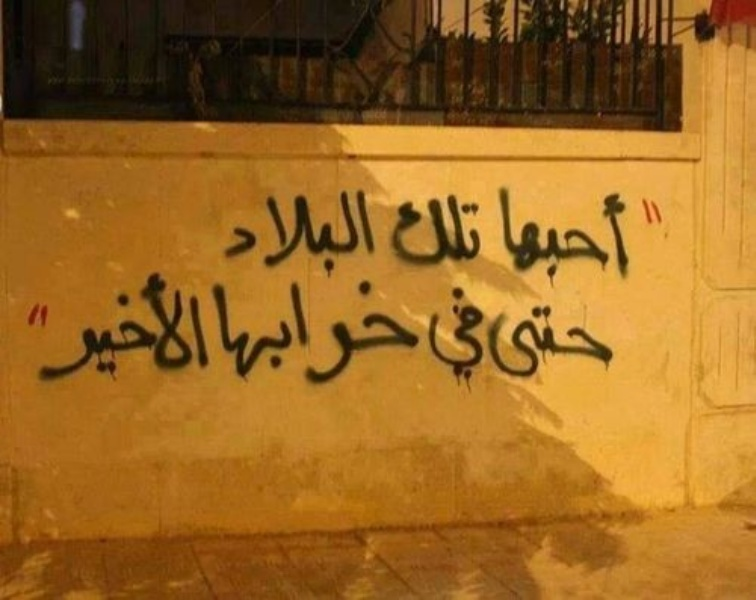text: (33, 265, 48, 384), (49, 265, 64, 384), (65, 265, 80, 384), (81, 265, 96, 384), (97, 265, 112, 384), (113, 265, 128, 384), (129, 265, 144, 384), (145, 265, 160, 384), (161, 265, 176, 384), (177, 265, 192, 384), (193, 265, 208, 384), (209, 277, 224, 393), (225, 277, 240, 393), (241, 277, 256, 393), (257, 277, 272, 393), (273, 277, 288, 393), (289, 277, 304, 393), (305, 277, 320, 393), (321, 277, 336, 393), (337, 277, 352, 393), (353, 277, 368, 393), (369, 277, 384, 393), (385, 277, 400, 393), (401, 277, 416, 393), (513, 185, 528, 286), (529, 185, 544, 286), (545, 185, 560, 286), (561, 185, 576, 286), (577, 185, 592, 286), (593, 185, 608, 286), (609, 185, 624, 286), (433, 286, 448, 380), (449, 286, 464, 380), (465, 286, 480, 380), (241, 188, 256, 280), (257, 188, 272, 280), (273, 188, 288, 280), (289, 188, 304, 280), (305, 188, 320, 280), (321, 188, 336, 280), (337, 188, 352, 280), (353, 188, 368, 280), (497, 294, 512, 384), (513, 294, 528, 384), (529, 294, 544, 384), (545, 294, 560, 384), (561, 294, 576, 384), (577, 294, 592, 384), (593, 294, 608, 384), (499, 185, 512, 286), (609, 294, 622, 384), (625, 185, 636, 286), (401, 192, 416, 266), (417, 192, 432, 266), (433, 192, 448, 266), (449, 192, 464, 266), (465, 192, 480, 266), (23, 265, 32, 384), (229, 188, 240, 280), (369, 188, 380, 280), (209, 265, 217, 384), (417, 277, 425, 393), (641, 197, 656, 229), (481, 286, 486, 380), (428, 286, 432, 380), (395, 192, 400, 266), (481, 192, 486, 266), (492, 294, 496, 384), (657, 197, 667, 229)
